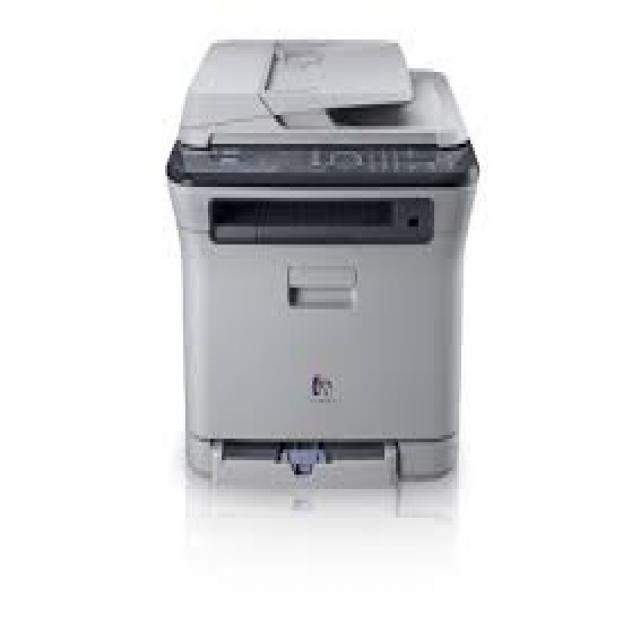printer: (164, 29, 485, 496)
